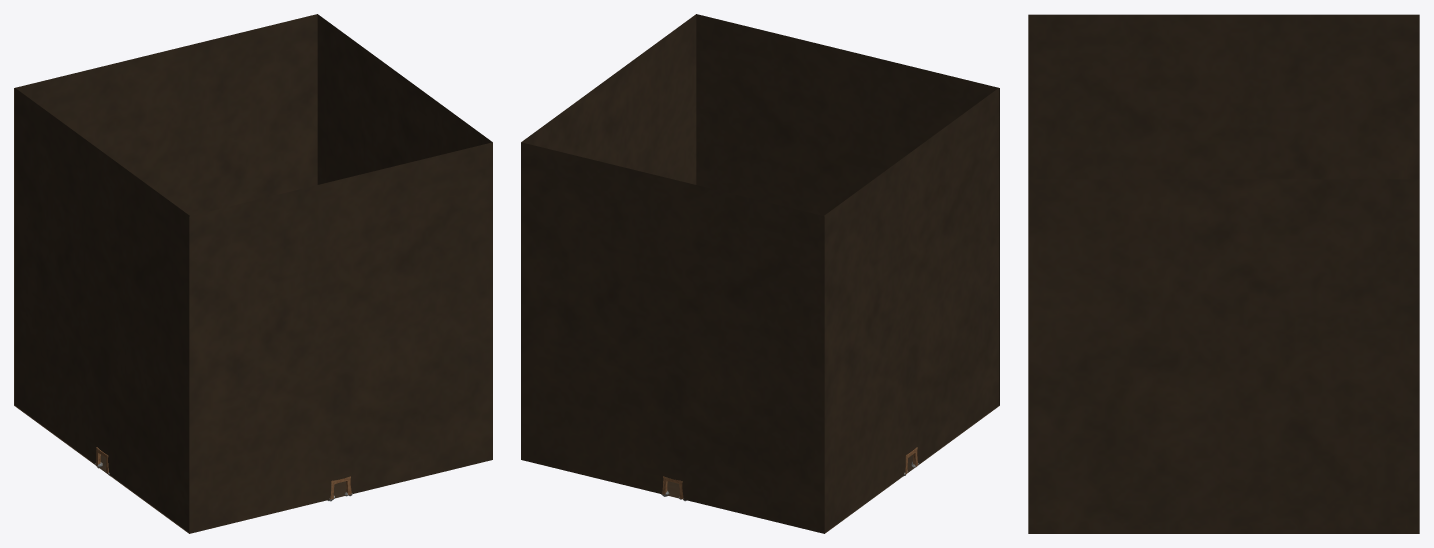
The model's file is 3sides.fbx.
3 views of the same model, side by side, from view 1: azimuth 30°, elevation 25°; view 2: azimuth 150°, elevation 25°; view 3: azimuth 270°, elevation 25° (orthographic). The views are drawn at different scales.
Visible parts, largest first — view 1: 4Pared, 3Pared, 2Pared, 1ParedSinPuerta, 4Pared.001, 4Pared.002, 3Pared.002, 3Pared.001; view 2: 2Pared, 3Pared, 4Pared, 1ParedSinPuerta, 2Pared.001, 2Pared.002, 3Pared.001, 3Pared.002; view 3: 1ParedSinPuerta, 3Pared.
Part boxes in pixels (x1,y1,x2,y2): 4Pared: (189,142,492,517); 3Pared: (15,88,189,516); 2Pared: (14,14,317,389); 1ParedSinPuerta: (317,14,492,184); 4Pared.001: (189,483,331,533); 4Pared.002: (350,444,492,494); 3Pared.002: (108,458,189,532); 3Pared.001: (15,390,96,463); 2Pared: (521,142,824,517); 3Pared: (824,88,998,516); 4Pared: (696,14,999,389); 1ParedSinPuerta: (521,14,696,184); 2Pared.001: (682,483,824,533); 2Pared.002: (521,444,664,494); 3Pared.001: (824,458,905,532); 3Pared.002: (917,390,998,463); 1ParedSinPuerta: (1028,179,1419,533); 3Pared: (1028,14,1419,179).
Bounding box in the file's own units: 9600 × 9693 × 9608.
